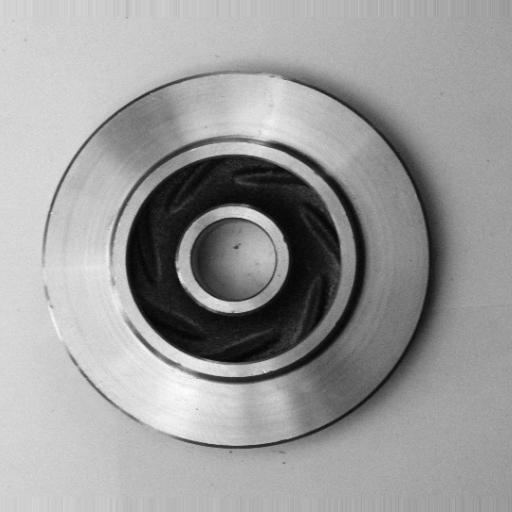scratch: (37, 254, 84, 375), (95, 243, 138, 338)
unpolished_casting: (37, 71, 437, 452)
